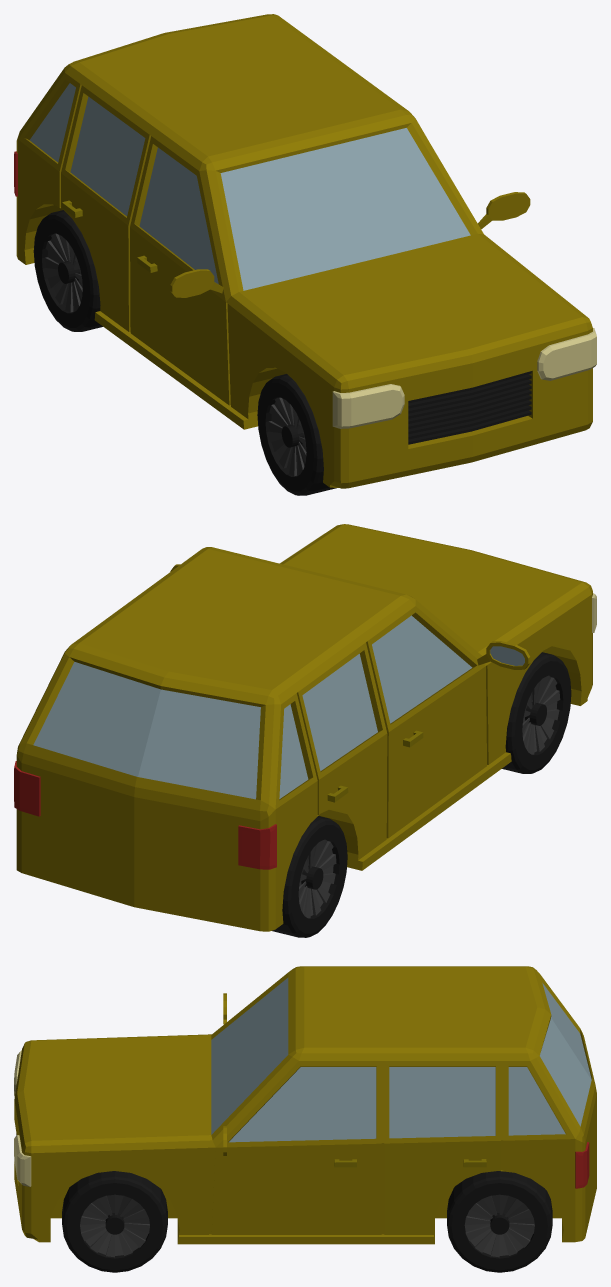
Rendered from CarYellow.fbx.
3 renders of one model, top to bottom at view 1: azimuth 30°, elevation 25°; view 2: azimuth 150°, elevation 25°; view 3: azimuth 270°, elevation 25°, orthographic. The views are drawn at different scales.
Parts seen in each view (by area): view 1: Cube; view 2: Cube; view 3: Cube.
Boxes of the visible parts, bbox=[...] form: Cube: bbox=[14, 14, 596, 495]; Cube: bbox=[14, 524, 596, 937]; Cube: bbox=[14, 966, 596, 1272].
Bounding box in the file's own units: 222 × 147 × 364.
